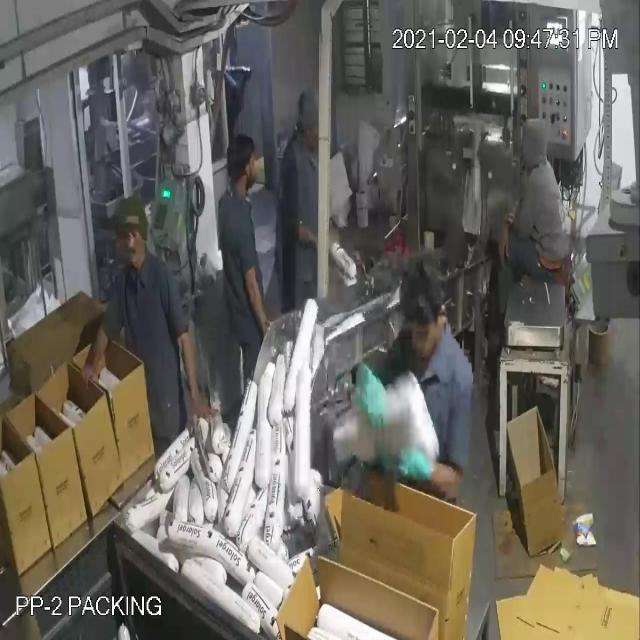No_Gloves: (26, 66, 503, 460)
